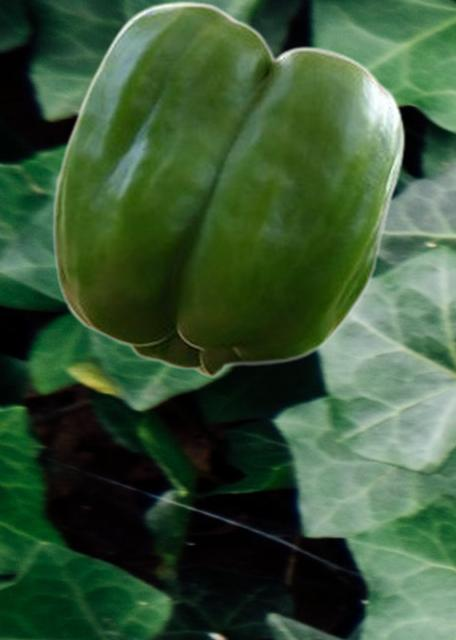bell_pepper: (51, 0, 404, 377)
